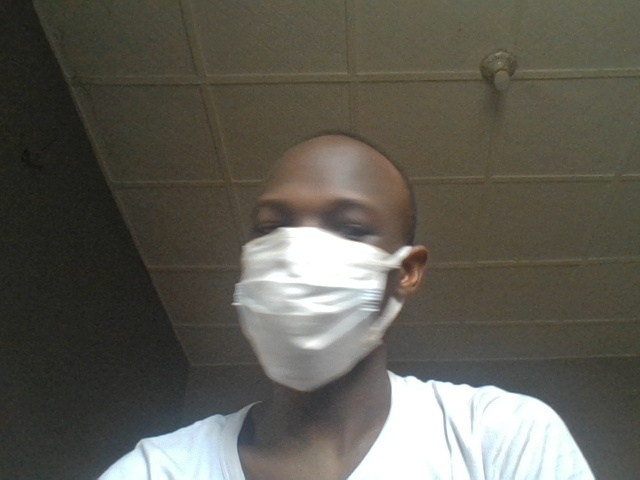Mask: (231, 231, 428, 395)
